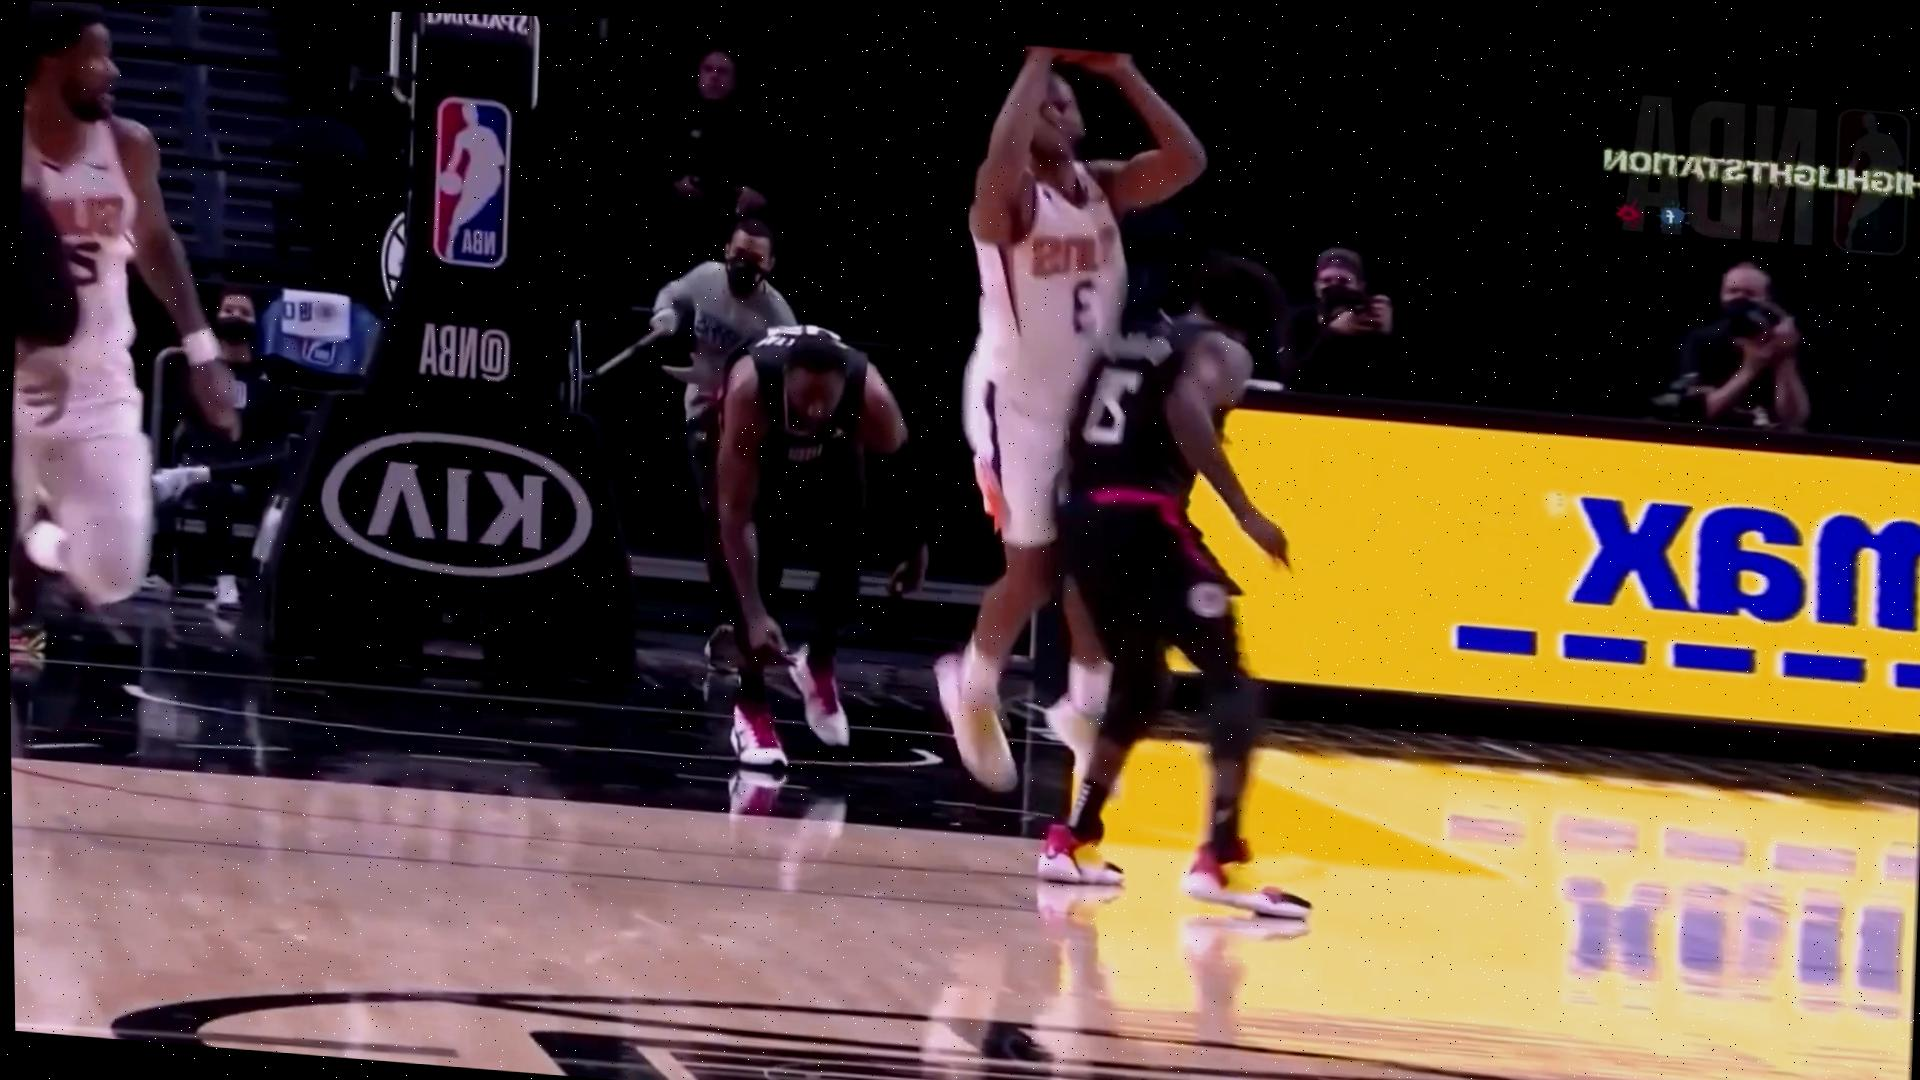foul: (861, 40, 1371, 938)
